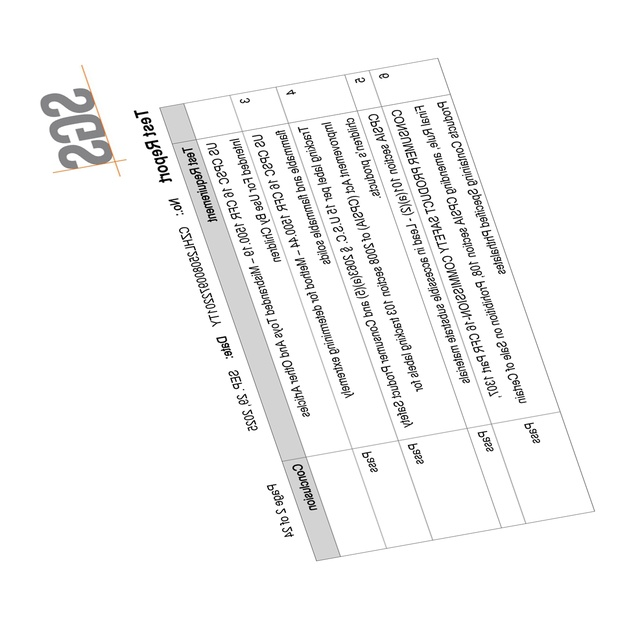sgs: (39, 87, 112, 169)
